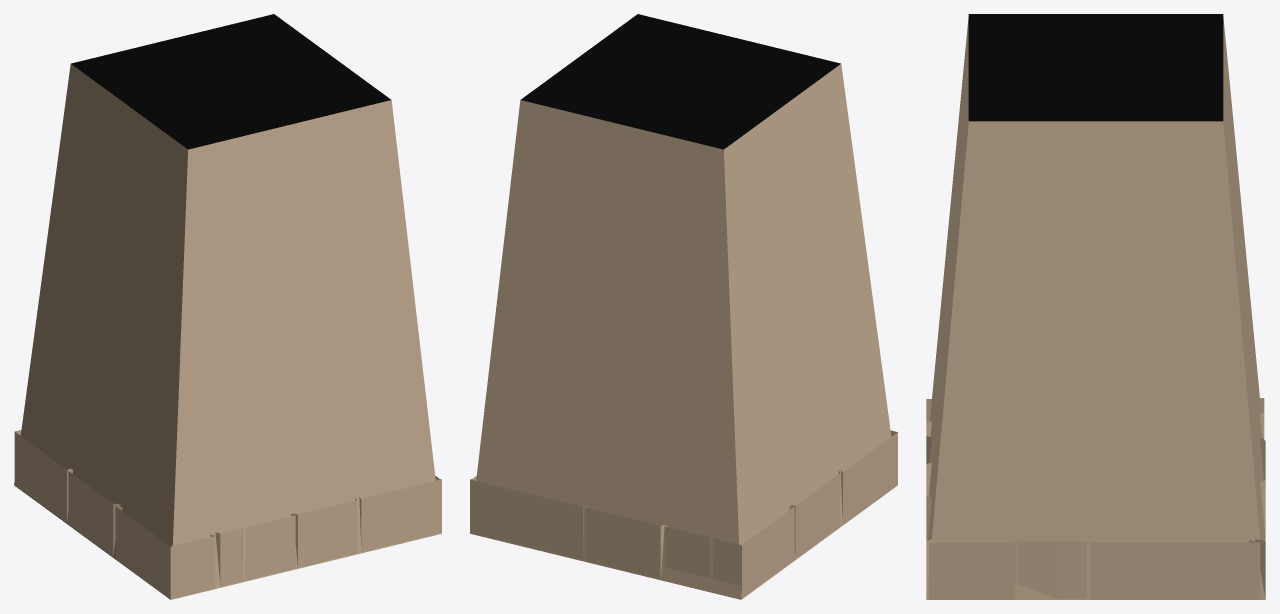
3 renders of one model, left to right at view 1: azimuth 30°, elevation 25°; view 2: azimuth 150°, elevation 25°; view 3: azimuth 270°, elevation 25°, orthographic. The views are drawn at different scales.
Size of the model in its own units: 2 by 3.01 by 2.
